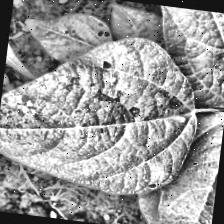ALS: (0, 22, 213, 203), (134, 98, 224, 224), (16, 7, 116, 66)
